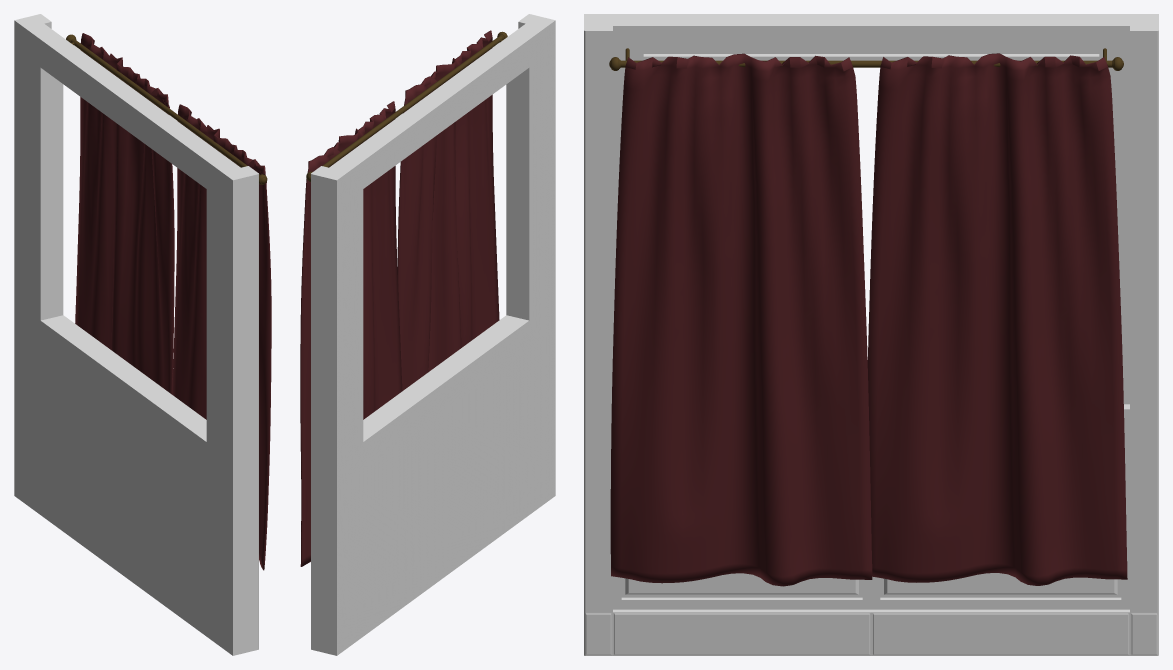
File: Wall_Window 2.fbx
The picture shows the model from 3 angles, left to right: view 1: azimuth 30°, elevation 25°; view 2: azimuth 150°, elevation 25°; view 3: azimuth 270°, elevation 25°; orthographic projection. The views are drawn at different scales.
Parts seen in each view (by area): view 1: Wall_Window 2; view 2: Wall_Window 2; view 3: Wall_Window 2.
Part boxes in pixels (x1=…): Wall_Window 2: x1=14, y1=14, x2=271, y2=655; Wall_Window 2: x1=300, y1=14, x2=555, y2=655; Wall_Window 2: x1=584, y1=14, x2=1158, y2=655.
Size of the model in its own units: 30.37 by 240 by 200.
